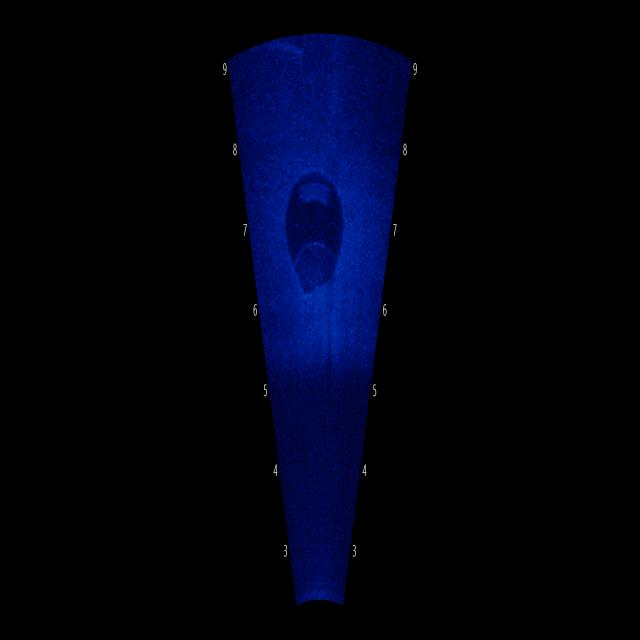circle: (276, 149, 362, 302)
